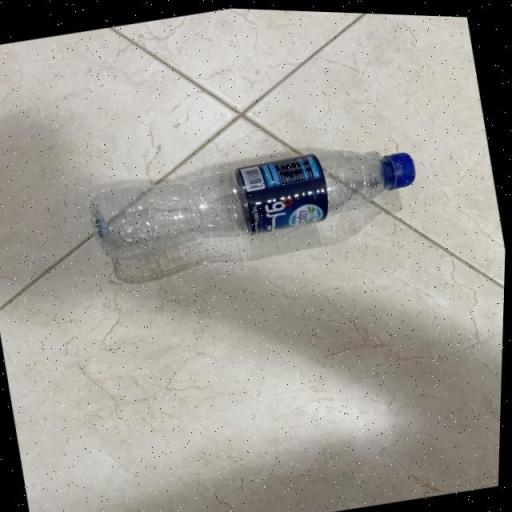plastic: (80, 120, 426, 270)
